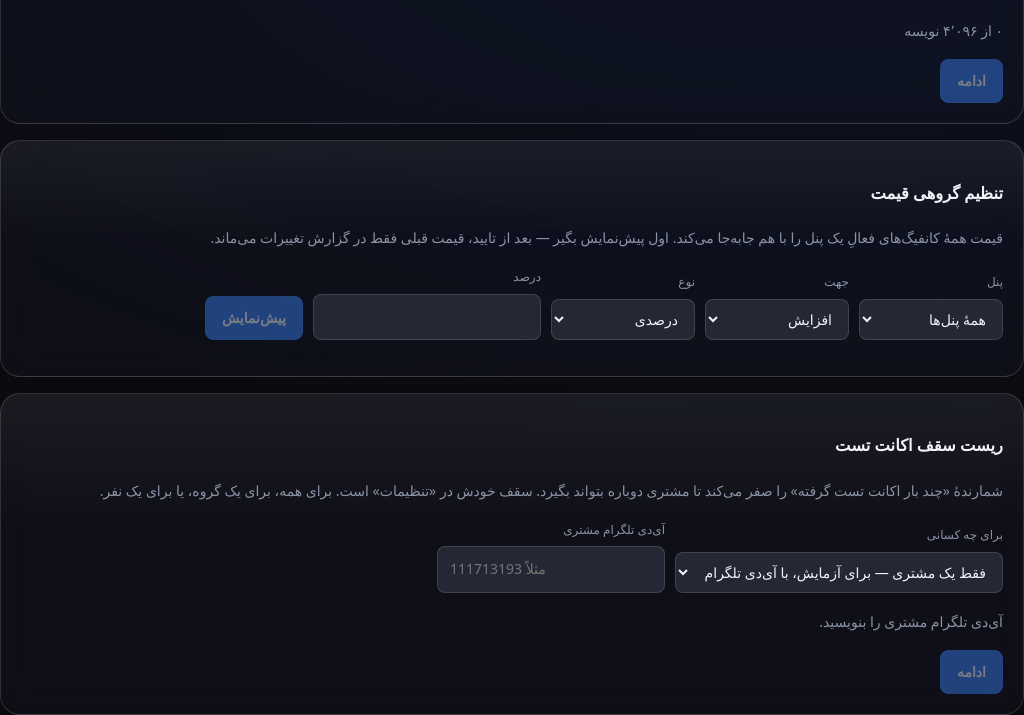
resetting the trial quota › keeps the button down while nobody in the audience has a trial to reset
The image size is (1024, 715).
(page scrolled)
expect the heading "ریست سقف اکانت تست" is shown: met, box [835,434,1003,456]
Select "سرویس فعال روی یک پنل مشخص دارد" in the dropdown labelled "برای چه کسانی" at (839, 572), box [675,552,1003,593]
(page scrolled)
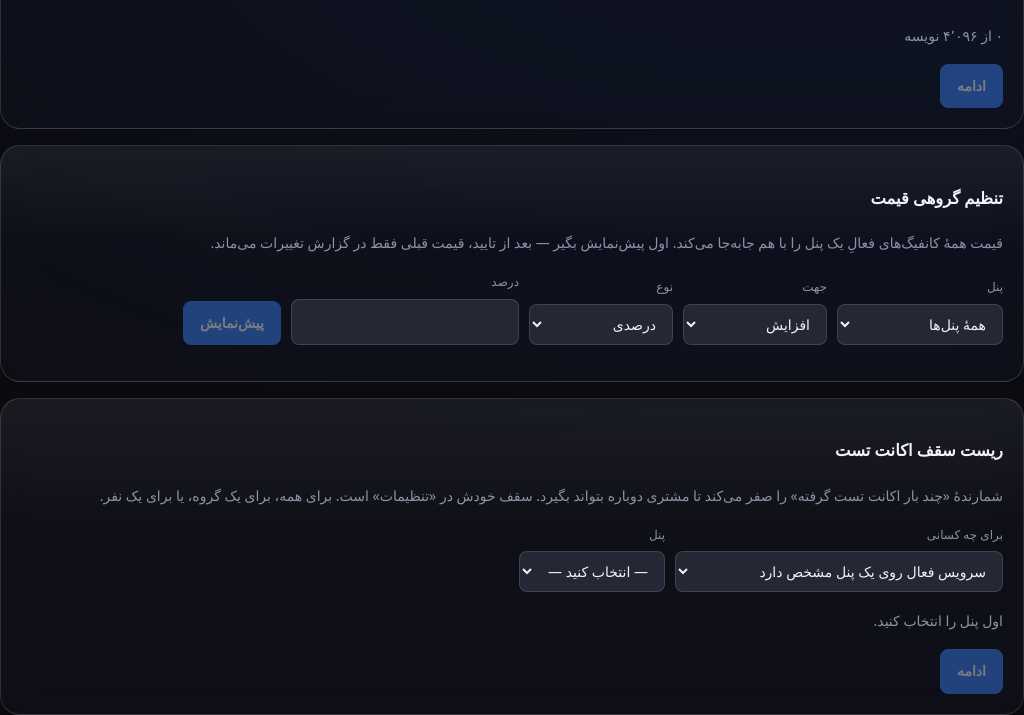
Select "پنل خالی" in the dropdown labelled "پنل" below "ریست سقف اکانت تست" at (592, 572), box [519,551,665,592]
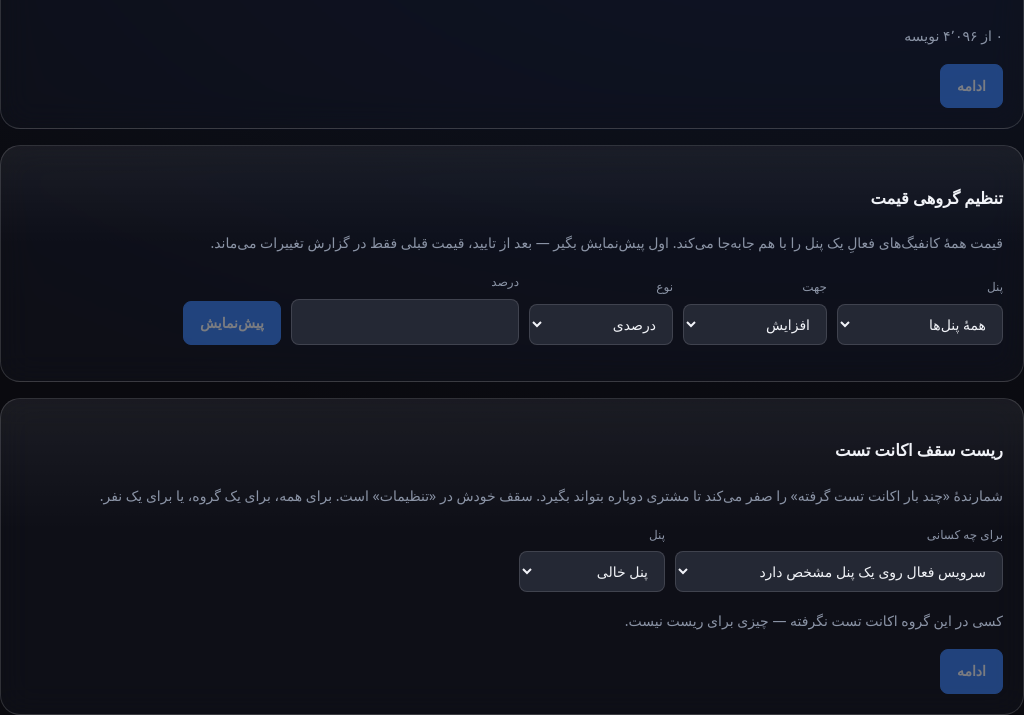
expect the button "ادامه" below "ریست سقف اکانت تست" is disabled: met, box [940,649,1003,694]
expect the text "کسی در این گروه اکانت تست نگرفته — چیزی برای ریست نیست." is shown: met, box [625,611,1003,630]
